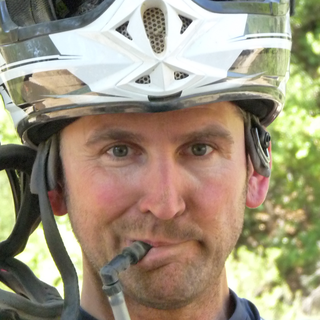eye: (95, 138, 144, 164), (177, 138, 222, 163)
